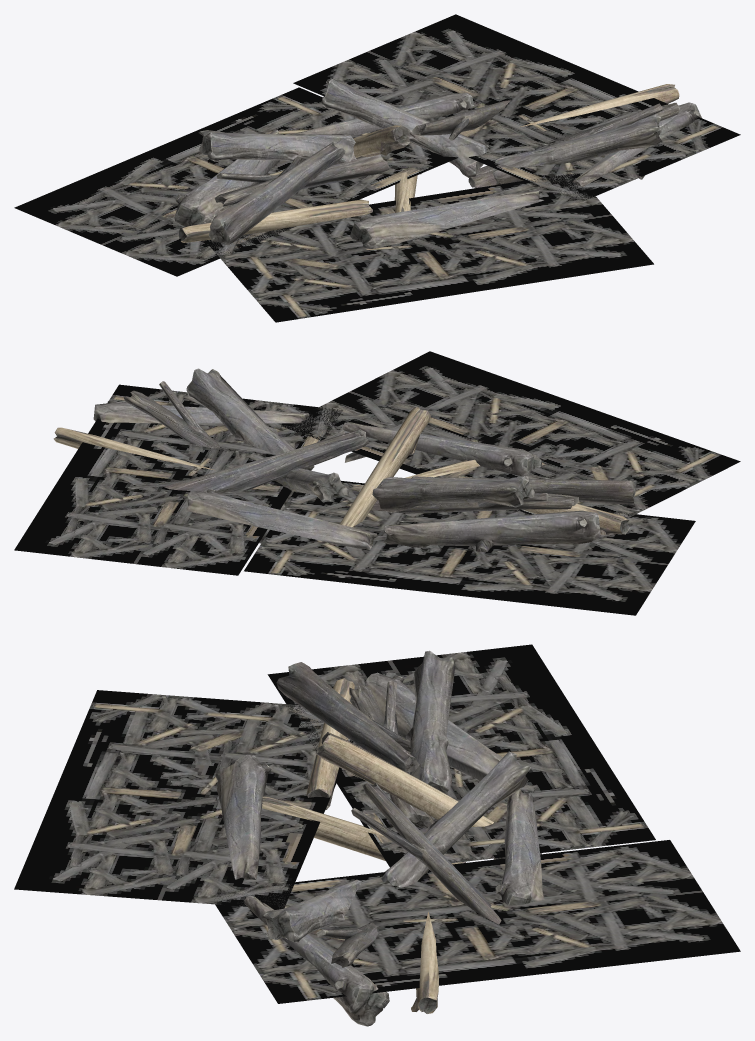
Rendered from driftwood_set_2.glb.
3 renders of one model, top to bottom at view 1: azimuth 30°, elevation 25°; view 2: azimuth 150°, elevation 25°; view 3: azimuth 270°, elevation 25°, orthographic. The views are drawn at different scales.
Parts seen in each view (by area): view 1: driftwood_set_2_LOD0; view 2: driftwood_set_2_LOD0; view 3: driftwood_set_2_LOD0.
Boxes of the visible parts, box(x1,y1,x2,y2) form: driftwood_set_2_LOD0: box(14, 14, 740, 322); driftwood_set_2_LOD0: box(14, 351, 740, 615); driftwood_set_2_LOD0: box(14, 644, 740, 1026).
Size of the model in its own units: 4.55 by 0.7757 by 3.89.
2 materials, 2 textured.
